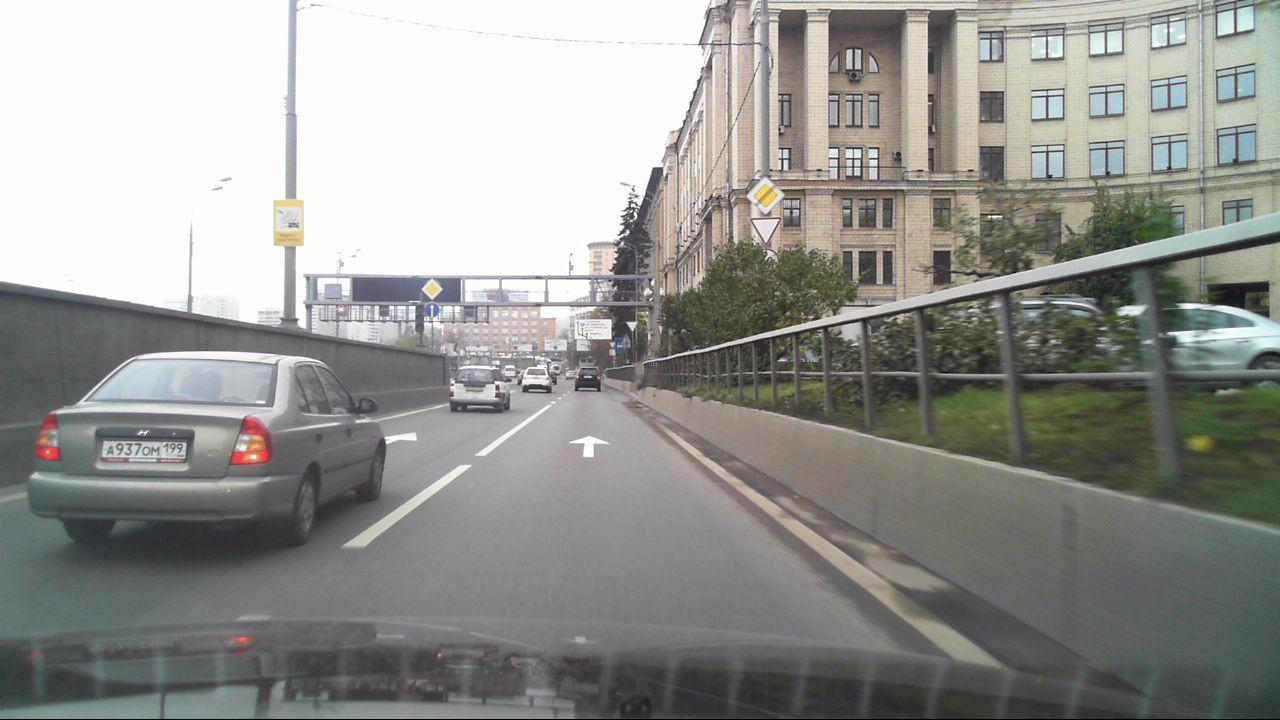road_sign: (743, 173, 788, 218), (748, 216, 784, 250), (419, 277, 445, 302), (425, 303, 439, 317)
